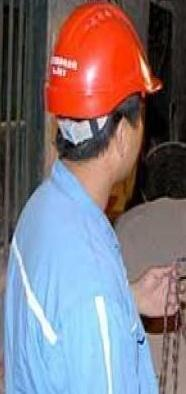hard-hat: (44, 1, 164, 120)
ppe-suit: (1, 159, 160, 394)
